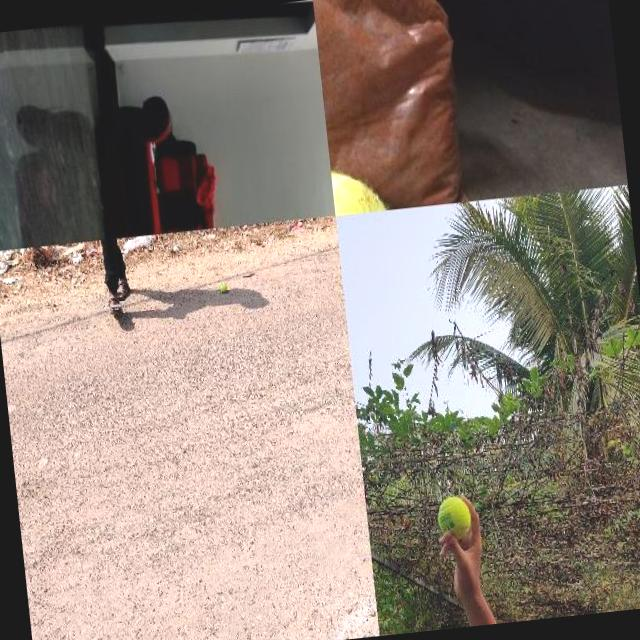Tennis Ball: (435, 493, 473, 542), (220, 282, 228, 290)
